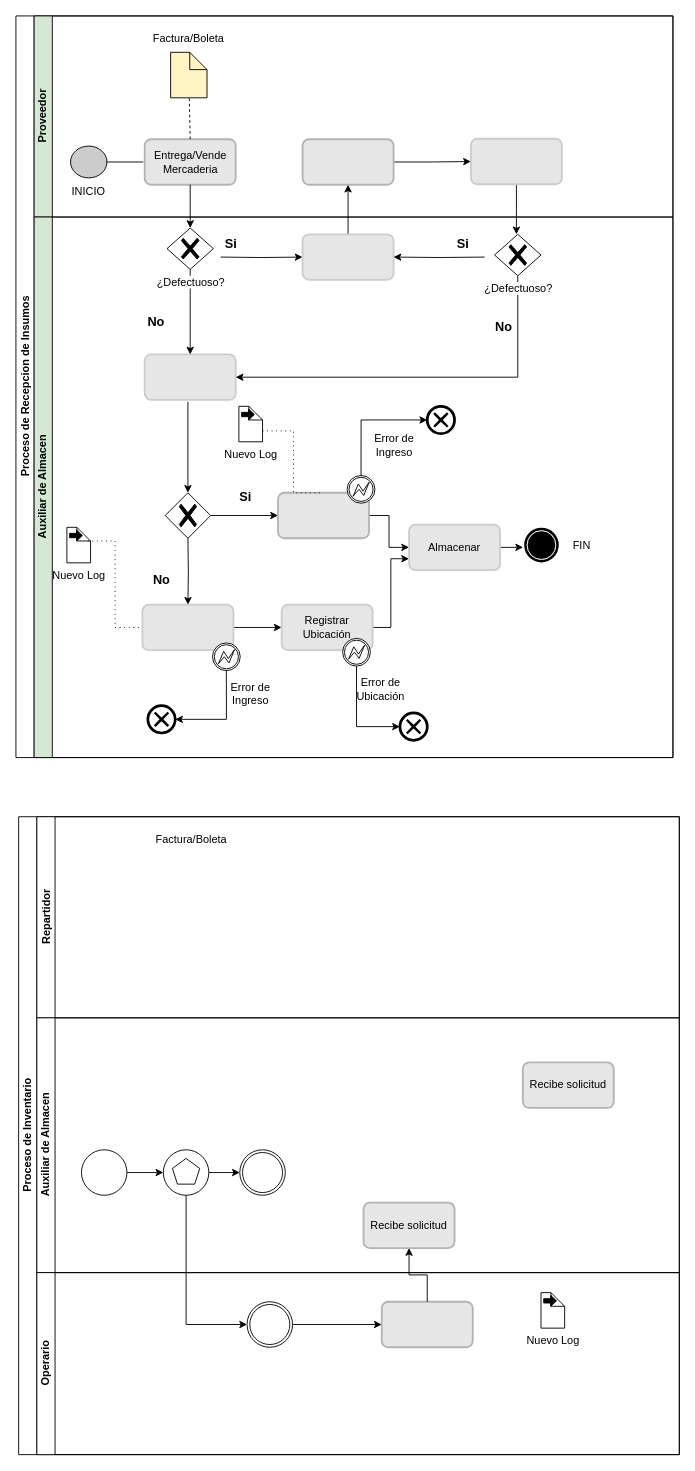
This 695x1471 diagram has some shape labels left out. Here are the shapes that lost their labels. From the top down, the centre of each, then its label:
At pixel 347 161: "Recepciona Mercaderia".
At pixel 516 161: "Entrega de Remplazo de Mercaderia".
At pixel 347 256: "Devuelve Mercaderia".
At pixel 189 376: "Recepciona la Mercaderia".
At pixel 187 515: "¿Existe?".
At pixel 323 515: "Registra entrada de Insumo".
At pixel 187 627: "Registra Nuevo Insumo".
At pixel 426 1324: "Solicita Nuevo Insumo".
